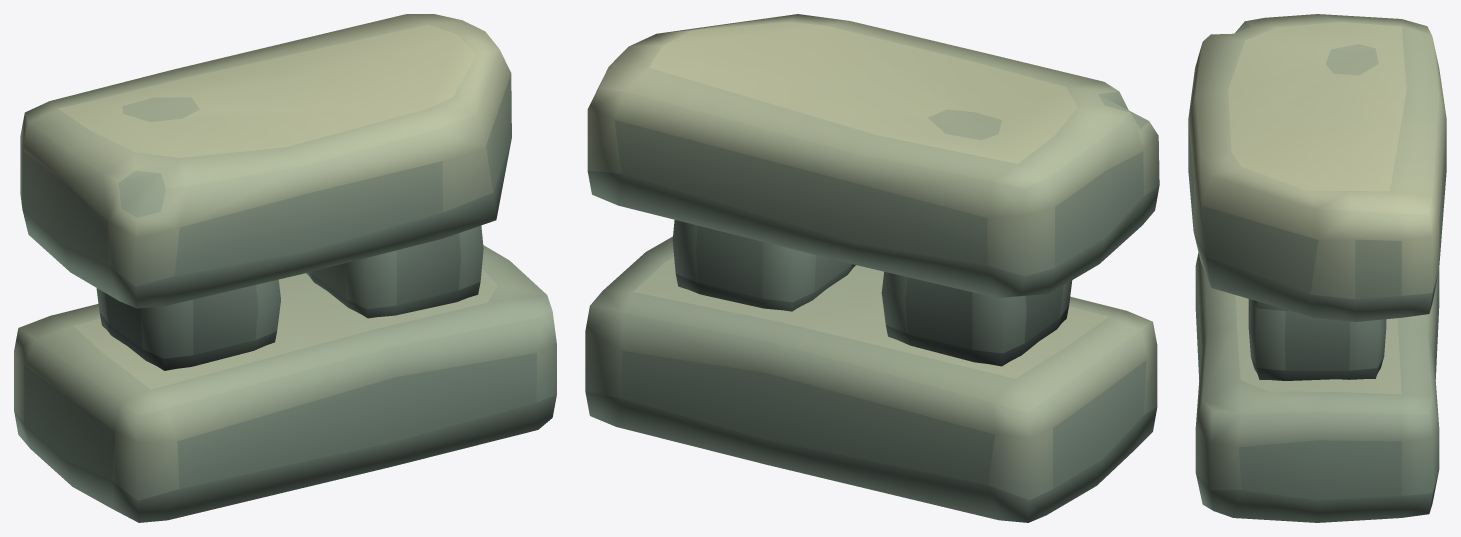
The model's file is rail1_2_stone1_LOD_group.fbx.
The picture shows the model from 3 angles, left to right: view 1: azimuth 30°, elevation 25°; view 2: azimuth 150°, elevation 25°; view 3: azimuth 270°, elevation 25°; orthographic projection. The views are drawn at different scales.
Parts seen in each view (by area): view 1: rail1_2_stone1_LOD0; view 2: rail1_2_stone1_LOD0; view 3: rail1_2_stone1_LOD0.
Boxes of the visible parts, x1=… form: rail1_2_stone1_LOD0: x1=14, y1=14, x2=556, y2=522; rail1_2_stone1_LOD0: x1=585, y1=14, x2=1159, y2=522; rail1_2_stone1_LOD0: x1=1188, y1=14, x2=1446, y2=522.
Size of what is drawn, in the model's own units: 110 by 81.78 by 58.69.
Materials: 1 (1 with a texture image).
